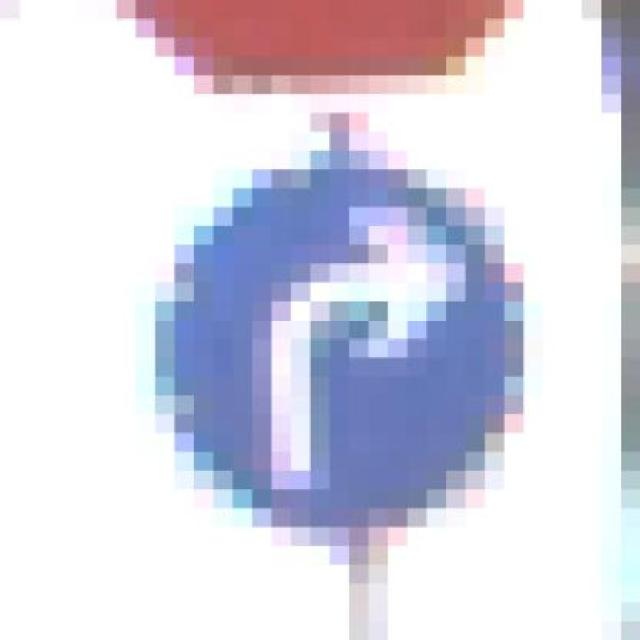Turn right ahead: (116, 132, 582, 566)
